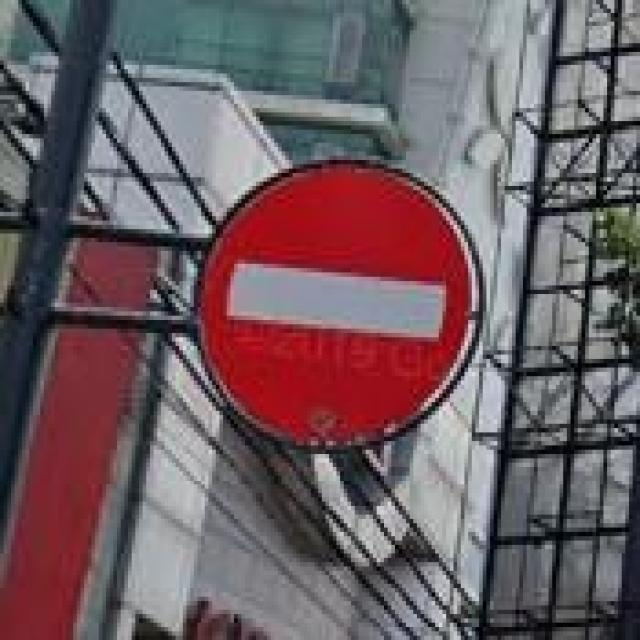do_not_enter: (201, 164, 472, 450)
